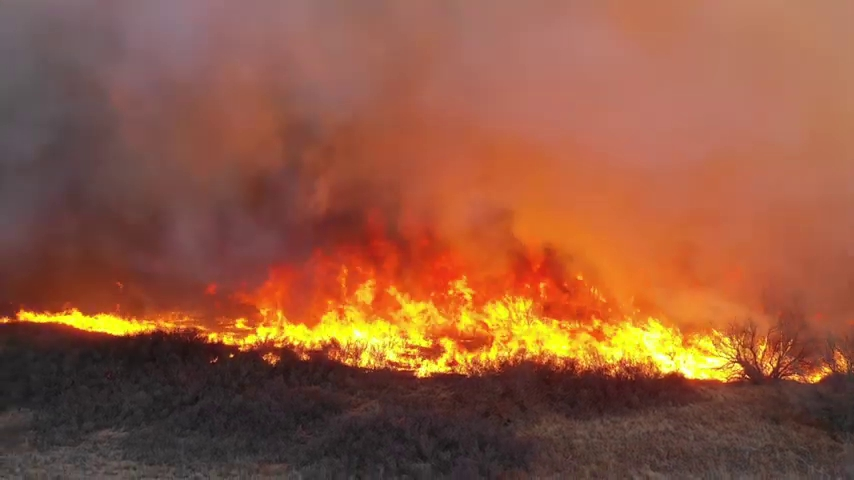forest_fire: (3, 222, 731, 378), (205, 285, 218, 294), (267, 356, 273, 360)
